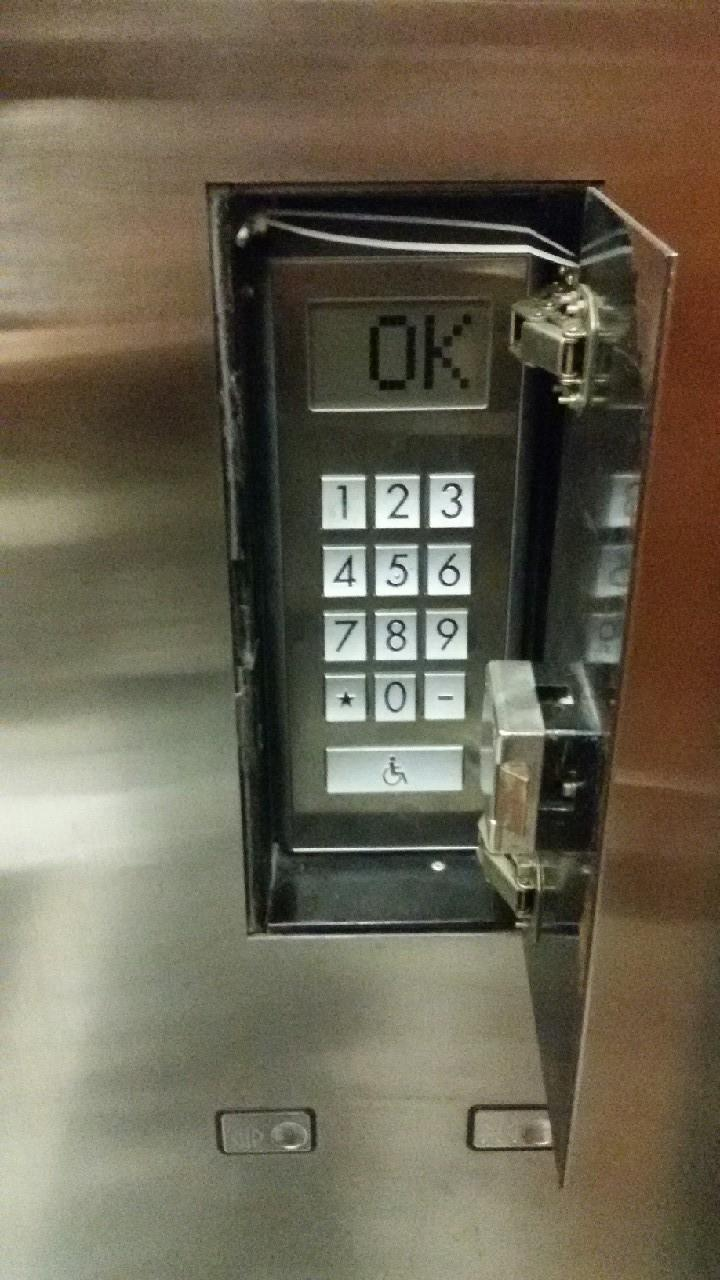-: (421, 666, 468, 727)
0: (371, 668, 419, 726)
1: (319, 471, 370, 534)
2: (370, 469, 424, 532)
3: (424, 469, 477, 533)
4: (317, 542, 371, 601)
5: (371, 540, 421, 600)
6: (423, 540, 475, 601)
7: (320, 608, 370, 668)
8: (371, 607, 420, 666)
9: (418, 606, 471, 665)
CH: (320, 741, 468, 799)
close: (463, 1099, 559, 1159)
led: (302, 294, 500, 416)
open: (212, 1101, 321, 1161)
s: (318, 670, 371, 728)
